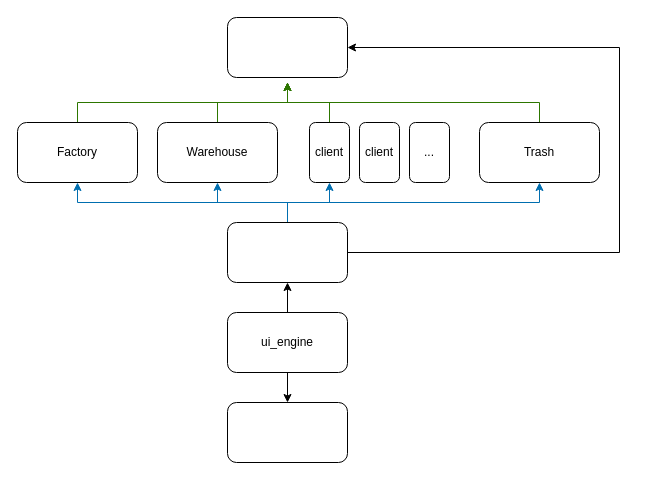
The diagram is 645 pixels wide and 480 high, and some of its shapes have lost their labels. Each missing label, with the centre of its shape:
canvas: pixel 287 432
core: pixel 287 47
engine: pixel 287 252
